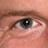eye: (20, 20, 33, 28)
